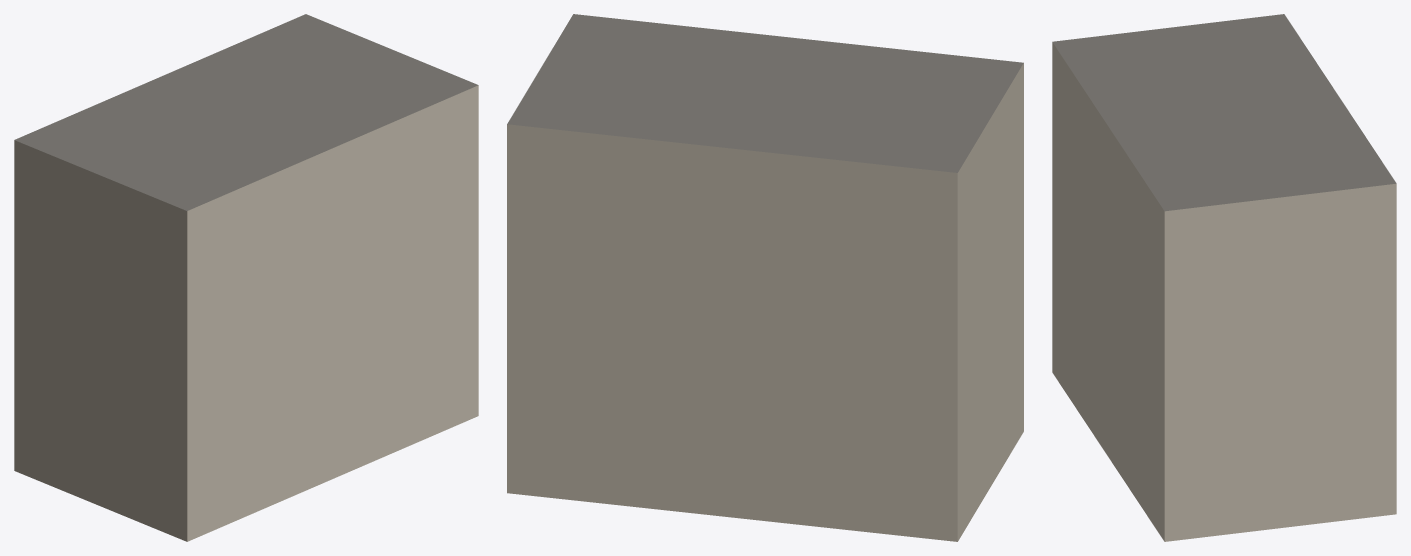
The picture shows the model from 3 angles, left to right: view 1: azimuth 30°, elevation 25°; view 2: azimuth 150°, elevation 25°; view 3: azimuth 270°, elevation 25°; orthographic projection. The views are drawn at different scales.
Parts seen in each view (by area): view 1: HP-w446934325; view 2: HP-w446934325; view 3: HP-w446934325.
Boxes of the visible parts, x1,y1,x2,y2 form: HP-w446934325: (14, 14, 478, 541); HP-w446934325: (507, 14, 1023, 541); HP-w446934325: (1052, 14, 1396, 541).
Size of the model in its own units: 23.04 by 18 by 17.
